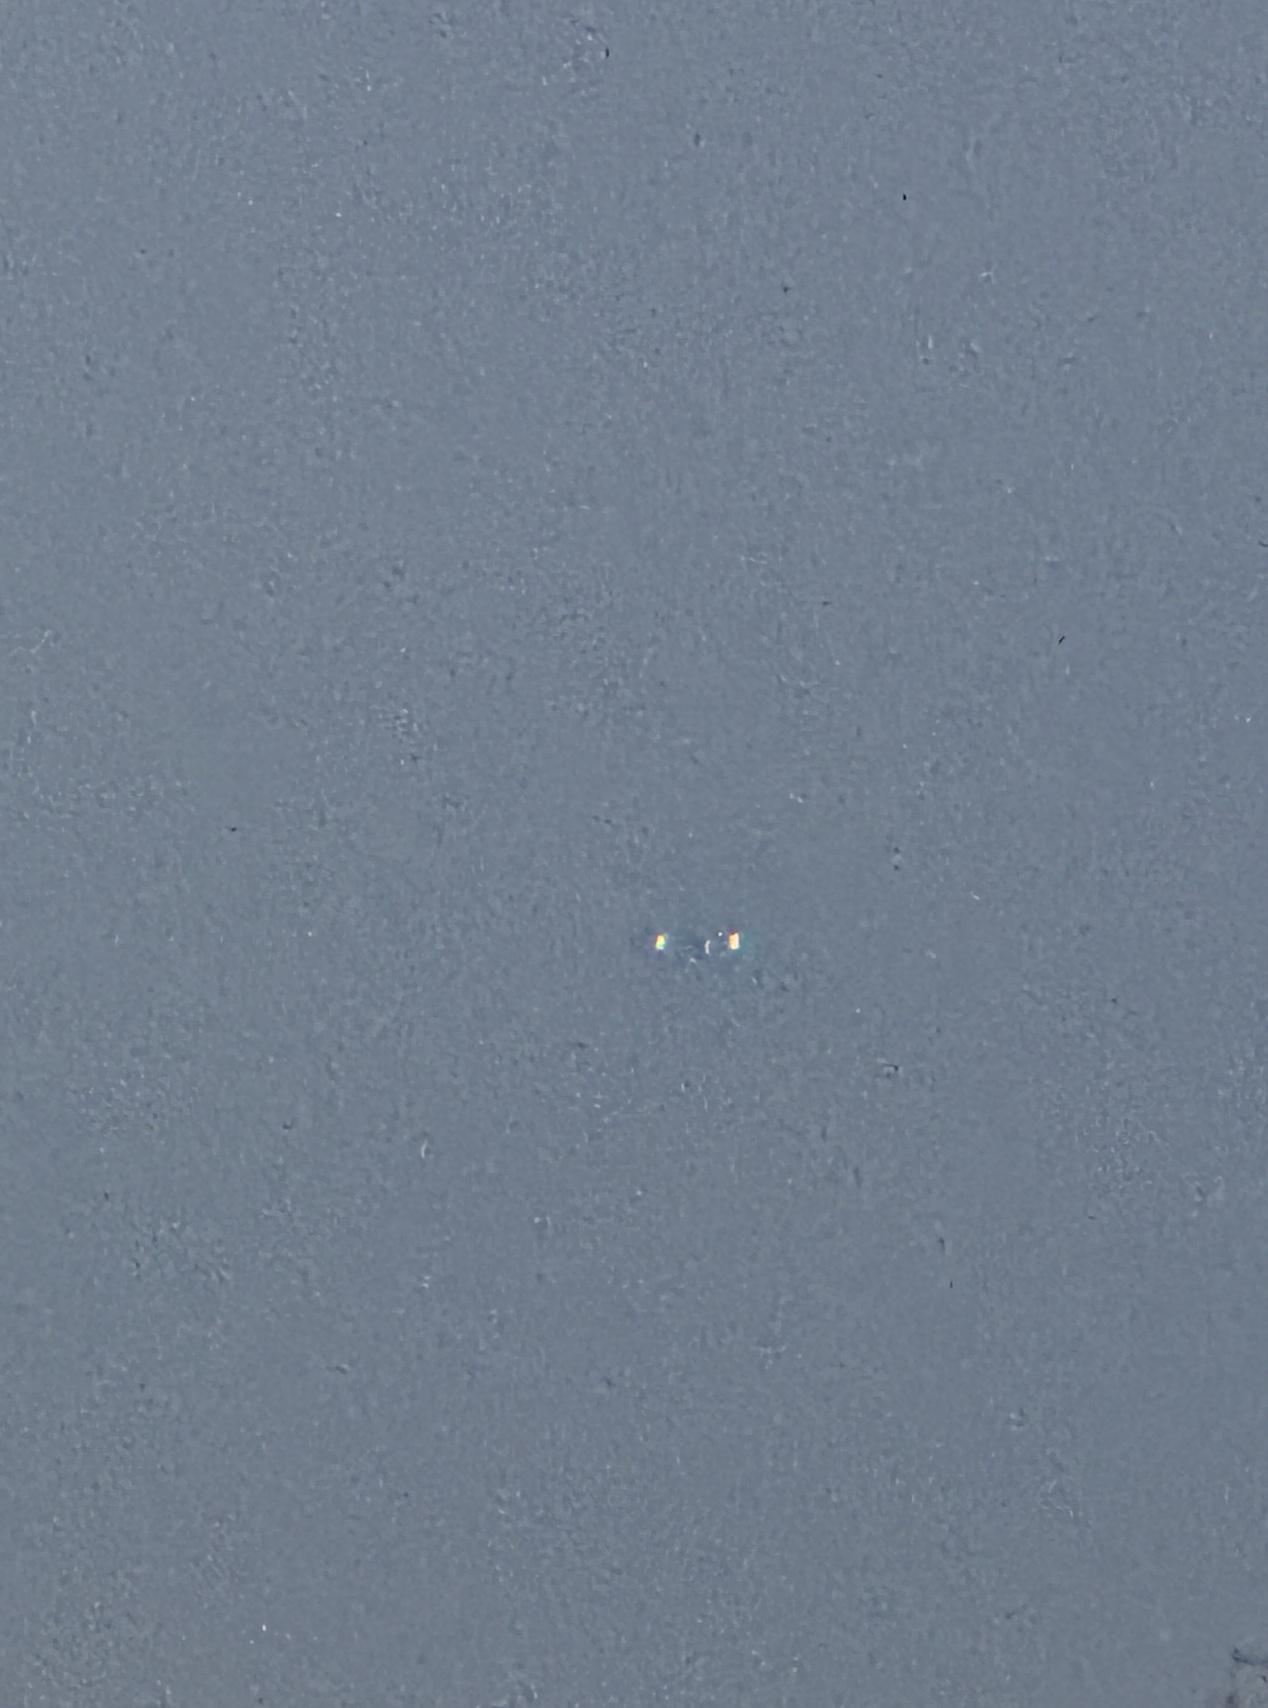Plane: (611, 901, 770, 984)
